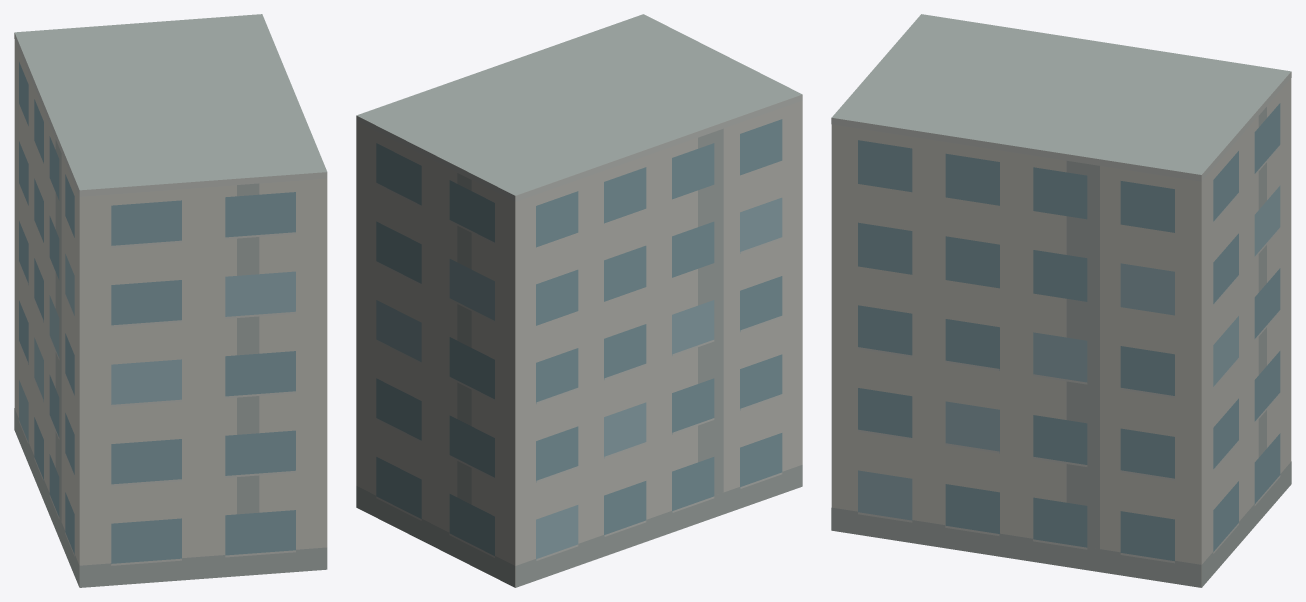
Rendered from residential-d2a9bb37-4904-45a0-922d-4f0cfcb12d70.glb.
3 views of the same model, side by side, from view 1: azimuth 30°, elevation 25°; view 2: azimuth 150°, elevation 25°; view 3: azimuth 270°, elevation 25° (orthographic). The views are drawn at different scales.
Visible parts, largest first — view 1: residential-d2a9bb37-4904-45a0-922d-4f0cfcb12d70.tmp; view 2: residential-d2a9bb37-4904-45a0-922d-4f0cfcb12d70.tmp; view 3: residential-d2a9bb37-4904-45a0-922d-4f0cfcb12d70.tmp.
Part boxes in pixels (left/top/right/bottom): residential-d2a9bb37-4904-45a0-922d-4f0cfcb12d70.tmp: left=14, top=14, right=327, bottom=587; residential-d2a9bb37-4904-45a0-922d-4f0cfcb12d70.tmp: left=356, top=14, right=802, bottom=587; residential-d2a9bb37-4904-45a0-922d-4f0cfcb12d70.tmp: left=831, top=14, right=1291, bottom=587.
Size of the model in its own units: 12.76 by 15.25 by 15.41.
